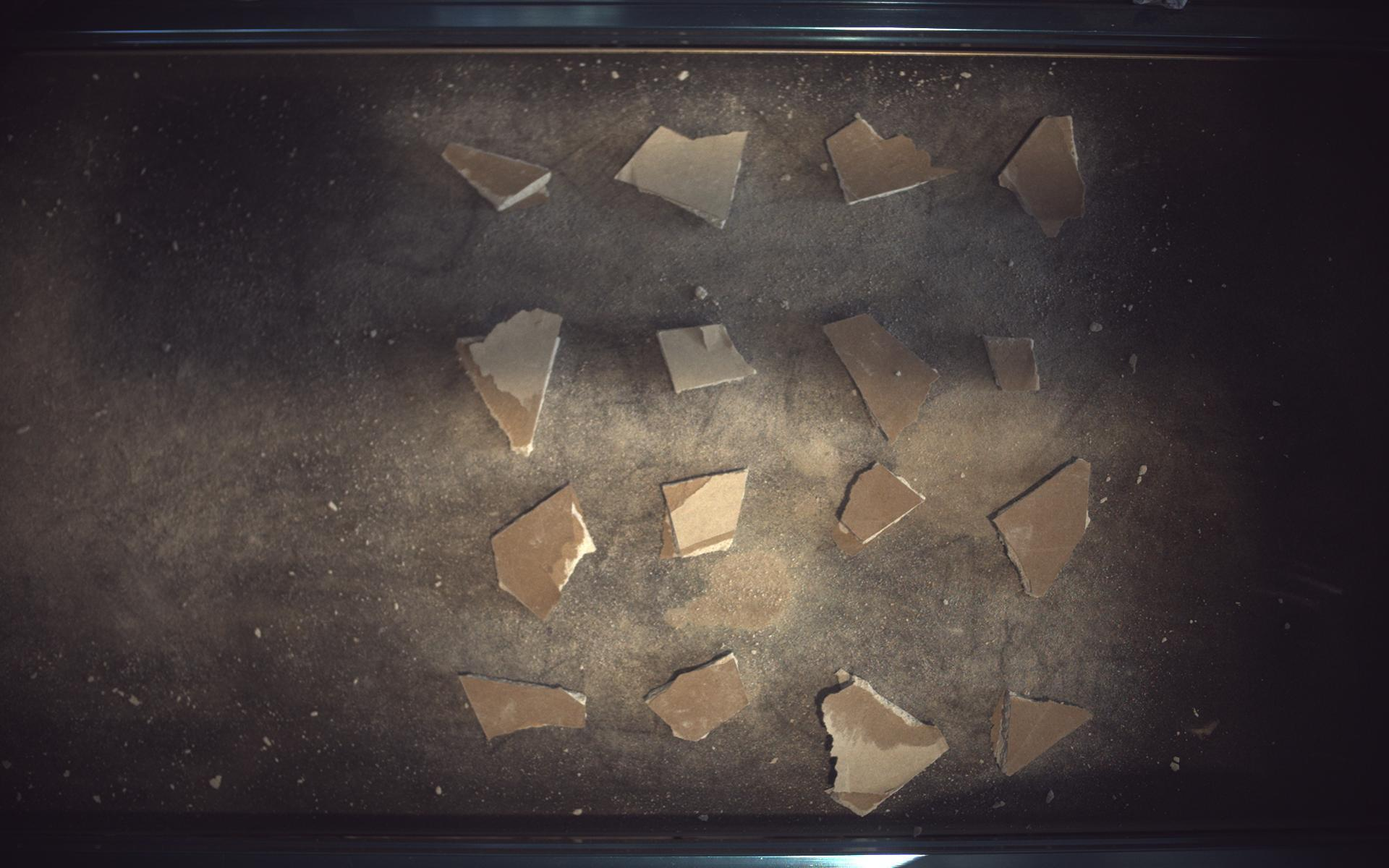gypsum_board: (823, 671, 951, 817), (456, 308, 562, 456), (825, 314, 940, 443), (492, 485, 596, 621), (995, 459, 1094, 598), (616, 125, 749, 227), (828, 114, 957, 204), (1001, 115, 1087, 237), (647, 653, 749, 742), (993, 692, 1095, 777), (834, 463, 927, 556), (460, 676, 587, 741), (661, 469, 749, 560), (442, 142, 552, 210), (658, 324, 757, 393), (985, 336, 1042, 391)
